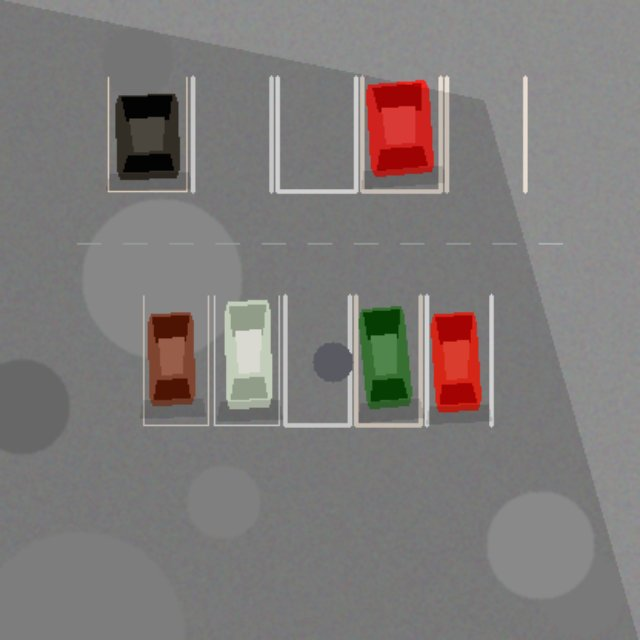space-empty: (192, 77, 271, 191), (446, 77, 525, 191), (277, 77, 355, 191), (285, 295, 349, 425)
space-occupied: (108, 77, 186, 191), (362, 77, 440, 191), (143, 295, 208, 425), (355, 295, 420, 425), (426, 295, 491, 425), (214, 295, 278, 425)
